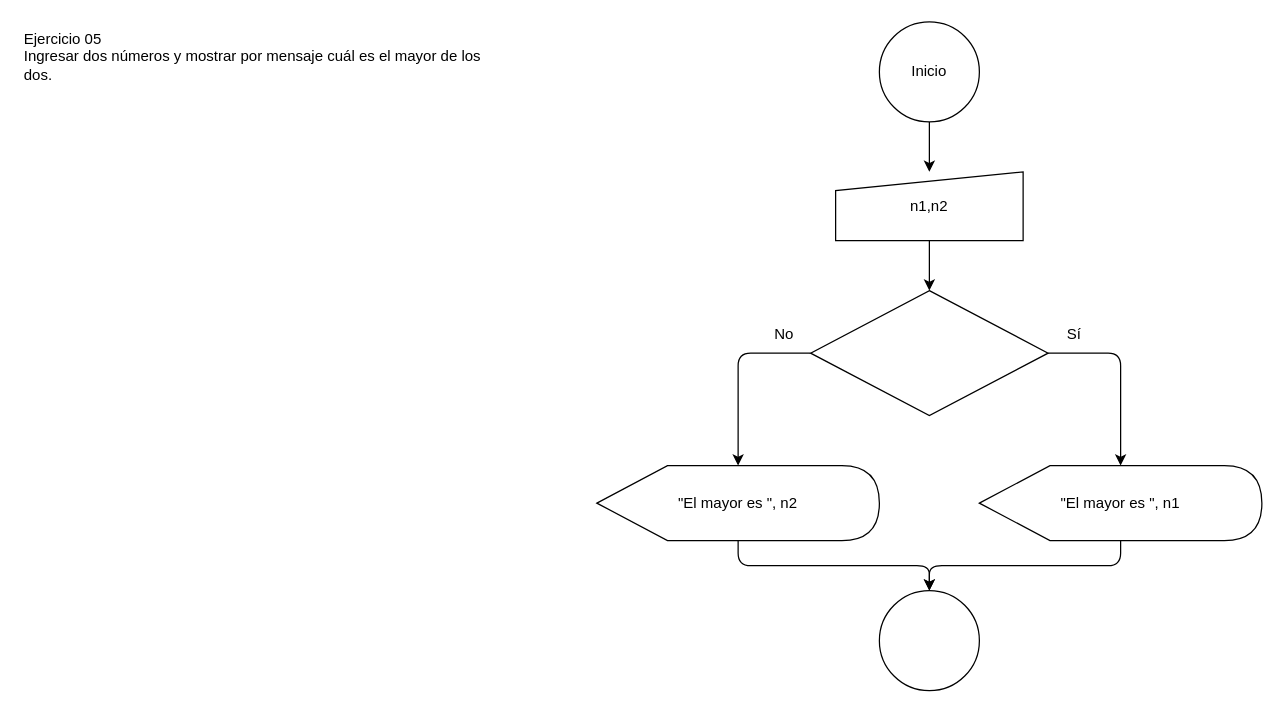
Image size: 1284x713. Some labels were removed from this diagram. Here are the shapes that lost their labels. From the top down, the centre of each, then its label:
the point at 928,352: n1 > n2
the point at 928,640: Fin
